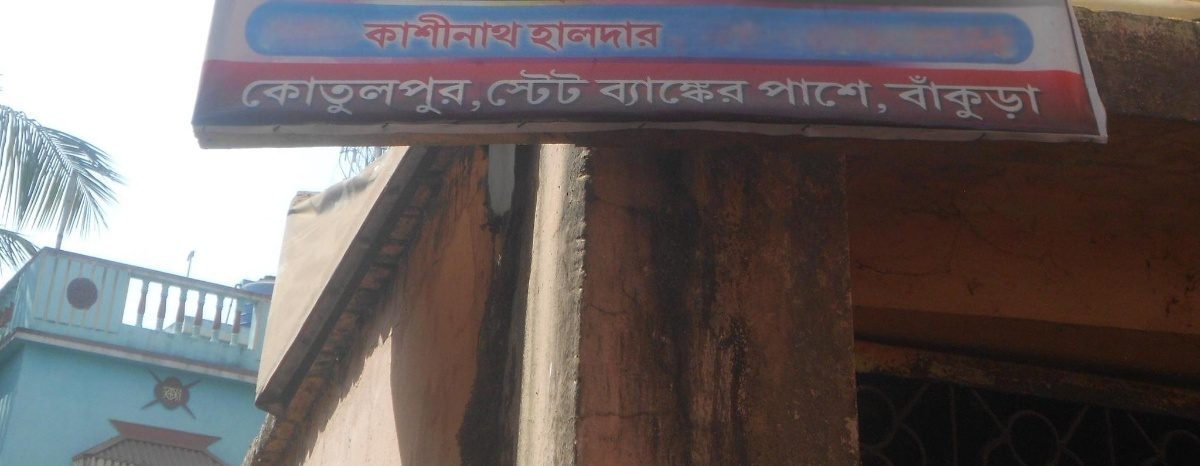text: (897, 76, 912, 121), (913, 76, 928, 121), (929, 76, 944, 121), (945, 76, 960, 121), (961, 76, 976, 121), (977, 76, 992, 121), (993, 76, 1008, 121), (1009, 76, 1024, 121), (1025, 76, 1040, 121), (369, 11, 384, 53), (385, 11, 400, 53), (401, 11, 416, 53), (417, 11, 432, 53), (433, 11, 448, 53), (449, 11, 464, 53), (465, 11, 480, 53), (481, 11, 496, 53), (497, 11, 512, 53), (882, 76, 896, 121), (769, 74, 784, 115), (785, 74, 800, 115), (801, 74, 816, 115), (817, 74, 832, 115), (833, 74, 848, 115), (849, 74, 864, 115), (865, 74, 880, 115), (241, 76, 256, 116), (257, 76, 272, 116), (273, 76, 288, 116), (289, 76, 304, 116), (305, 76, 320, 116), (321, 76, 336, 116), (337, 76, 352, 116), (353, 76, 368, 116), (369, 76, 384, 116), (385, 76, 400, 116), (401, 76, 416, 116), (417, 76, 432, 116), (433, 76, 448, 116), (449, 76, 464, 116), (465, 76, 480, 116), (497, 68, 512, 108), (513, 68, 528, 108), (529, 68, 544, 108), (545, 68, 560, 108), (561, 68, 576, 108), (577, 68, 592, 108), (529, 19, 544, 55), (545, 19, 560, 55), (561, 19, 576, 55), (577, 19, 592, 55), (593, 19, 608, 55), (609, 19, 624, 55), (625, 19, 640, 55), (641, 19, 656, 55), (756, 74, 768, 115), (609, 77, 624, 107), (625, 77, 640, 107), (641, 77, 656, 107), (657, 77, 672, 107), (673, 77, 688, 107), (689, 77, 704, 107), (705, 77, 720, 107), (721, 77, 736, 107), (513, 11, 523, 53), (737, 77, 750, 107), (487, 68, 496, 108), (596, 77, 608, 107), (362, 11, 368, 53), (657, 19, 664, 55), (881, 74, 887, 115), (526, 19, 528, 55), (1041, 76, 1042, 121), (481, 76, 482, 116)
